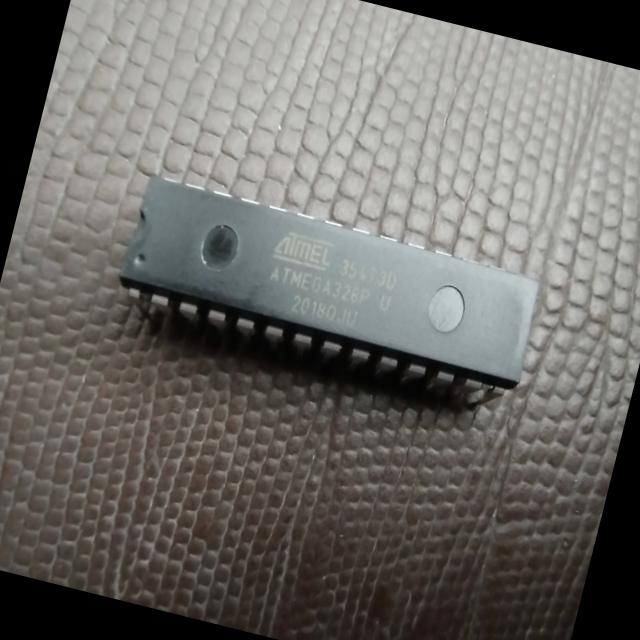atmega: (106, 168, 550, 414)
